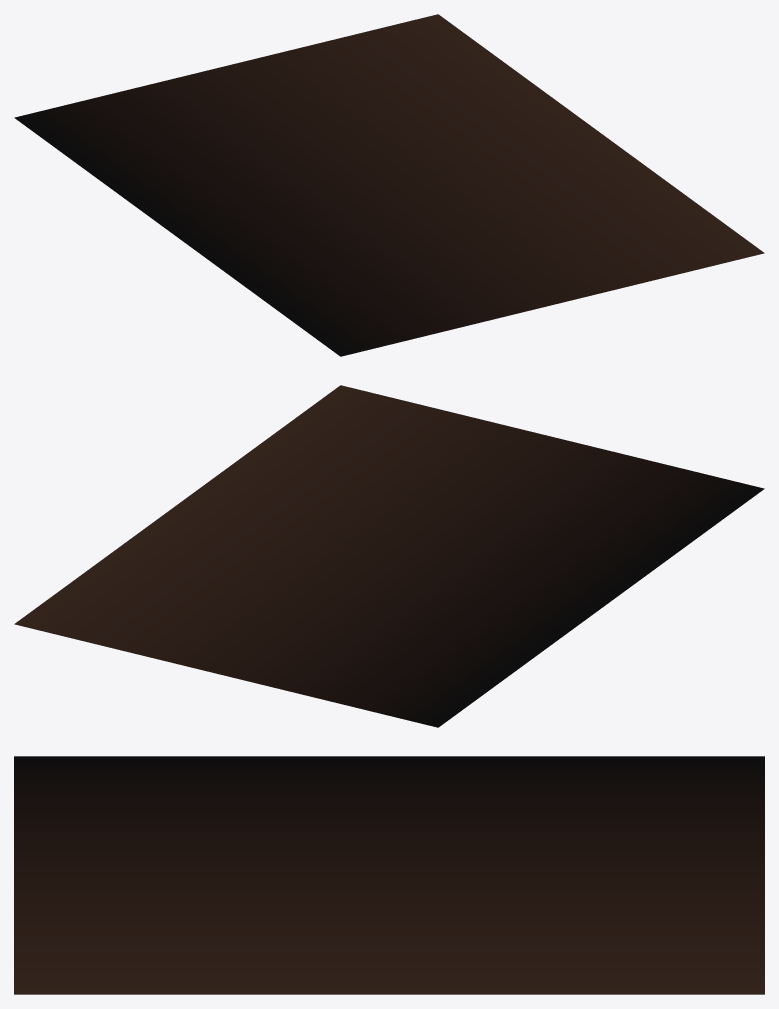
The picture shows the model from 3 angles, top to bottom: view 1: azimuth 30°, elevation 25°; view 2: azimuth 150°, elevation 25°; view 3: azimuth 270°, elevation 25°; orthographic projection. The views are drawn at different scales.
Size of the model in its own units: 0.75 by 0 by 1.
1 material, 1 textured.
